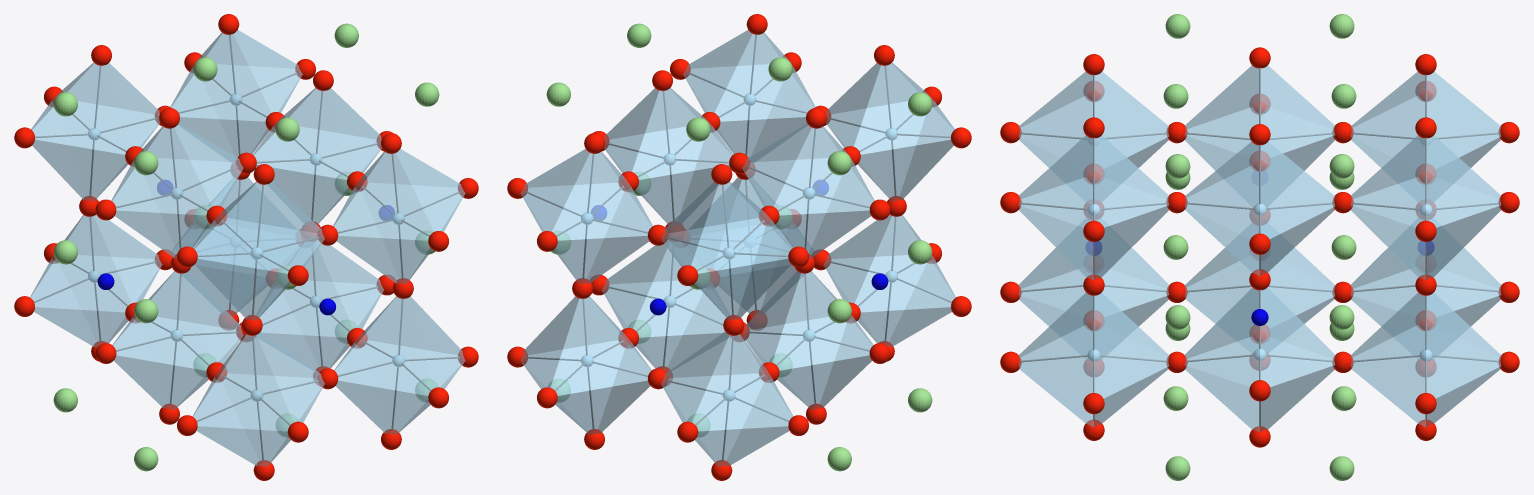
File: LLTO.fbx
The picture shows the model from 3 angles, left to right: view 1: azimuth 30°, elevation 25°; view 2: azimuth 150°, elevation 25°; view 3: azimuth 270°, elevation 25°; orthographic projection. The views are drawn at different scales.
Visible parts, largest first — view 1: Shape_IndexedFaceSet.037, Shape_IndexedFaceSet.069, Shape_IndexedFaceSet.021, Shape_IndexedFaceSet.085, Shape_IndexedFaceSet.053, Shape_IndexedFaceSet.045, Shape_IndexedFaceSet.050, Shape_IndexedFaceSet.082, Shape_IndexedFaceSet.013, Shape_IndexedFaceSet.093, Shape_IndexedFaceSet.029, Shape_IndexedFaceSet.061 (+55 smaller); view 2: Shape_IndexedFaceSet.041, Shape_IndexedFaceSet.073, Shape_IndexedFaceSet.017, Shape_IndexedFaceSet.089, Shape_IndexedFaceSet.057, Shape_IndexedFaceSet.033, Shape_IndexedFaceSet.062, Shape_IndexedFaceSet.094, Shape_IndexedFaceSet.009, Shape_IndexedFaceSet.081, Shape_IndexedFaceSet.025, Shape_IndexedFaceSet.049 (+55 smaller); view 3: Shape_IndexedFaceSet.068, Shape_IndexedFaceSet.072, Shape_IndexedFaceSet.064, Shape_IndexedFaceSet.076, Shape_IndexedFaceSet.024, Shape_IndexedFaceSet.028, Shape_IndexedFaceSet, Shape_IndexedFaceSet.004, Shape_IndexedFaceSet.027, Shape_IndexedFaceSet.031, Shape_IndexedFaceSet.052, Shape_IndexedFaceSet.056 (+78 smaller).
Boxes of the visible parts, x1,y1,x2,y2 form: Shape_IndexedFaceSet.037: (193,334,293,431); Shape_IndexedFaceSet.069: (335,297,435,395); Shape_IndexedFaceSet.021: (113,271,213,370); Shape_IndexedFaceSet.085: (195,182,294,273); Shape_IndexedFaceSet.053: (334,152,433,240); Shape_IndexedFaceSet.045: (30,215,130,312); Shape_IndexedFaceSet.050: (362,183,461,278); Shape_IndexedFaceSet.082: (220,218,320,316); Shape_IndexedFaceSet.013: (112,127,211,215); Shape_IndexedFaceSet.093: (32,63,131,154); Shape_IndexedFaceSet.029: (254,88,353,179); Shape_IndexedFaceSet.061: (171,33,270,121); Shape_IndexedFaceSet.041: (692,334,792,431); Shape_IndexedFaceSet.073: (550,297,650,395); Shape_IndexedFaceSet.017: (772,271,872,370); Shape_IndexedFaceSet.089: (691,182,790,273); Shape_IndexedFaceSet.057: (552,152,651,240); Shape_IndexedFaceSet.033: (855,215,955,312); Shape_IndexedFaceSet.062: (524,183,623,278); Shape_IndexedFaceSet.094: (665,218,765,316); Shape_IndexedFaceSet.009: (774,127,873,215); Shape_IndexedFaceSet.081: (854,63,953,154); Shape_IndexedFaceSet.025: (632,88,731,179); Shape_IndexedFaceSet.049: (715,33,814,121); Shape_IndexedFaceSet.068: (1018,292,1093,398); Shape_IndexedFaceSet.072: (1426,292,1501,398); Shape_IndexedFaceSet.064: (1094,292,1169,398); Shape_IndexedFaceSet.076: (1350,292,1425,398); Shape_IndexedFaceSet.024: (1260,142,1334,238); Shape_IndexedFaceSet.028: (1185,142,1259,238); Shape_IndexedFaceSet: (1260,287,1335,386); Shape_IndexedFaceSet.004: (1184,287,1259,386); Shape_IndexedFaceSet.027: (1261,166,1334,272); Shape_IndexedFaceSet.031: (1185,166,1258,272); Shape_IndexedFaceSet.052: (1019,135,1093,227); Shape_IndexedFaceSet.056: (1426,135,1500,227).
Bounding box in the file's own units: 831 × 837 × 1213.
